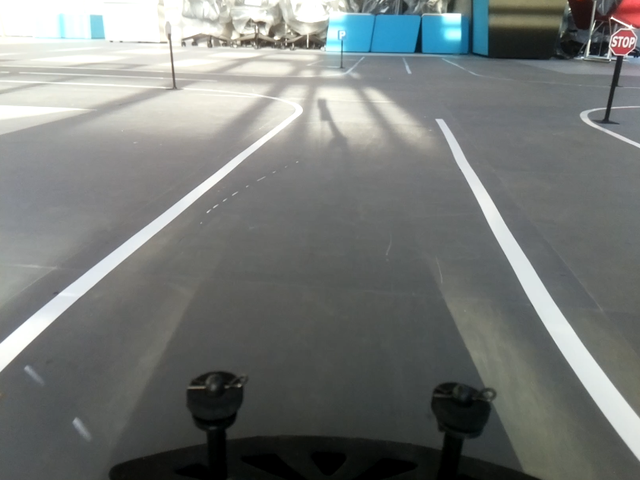stop: (609, 27, 638, 58)
